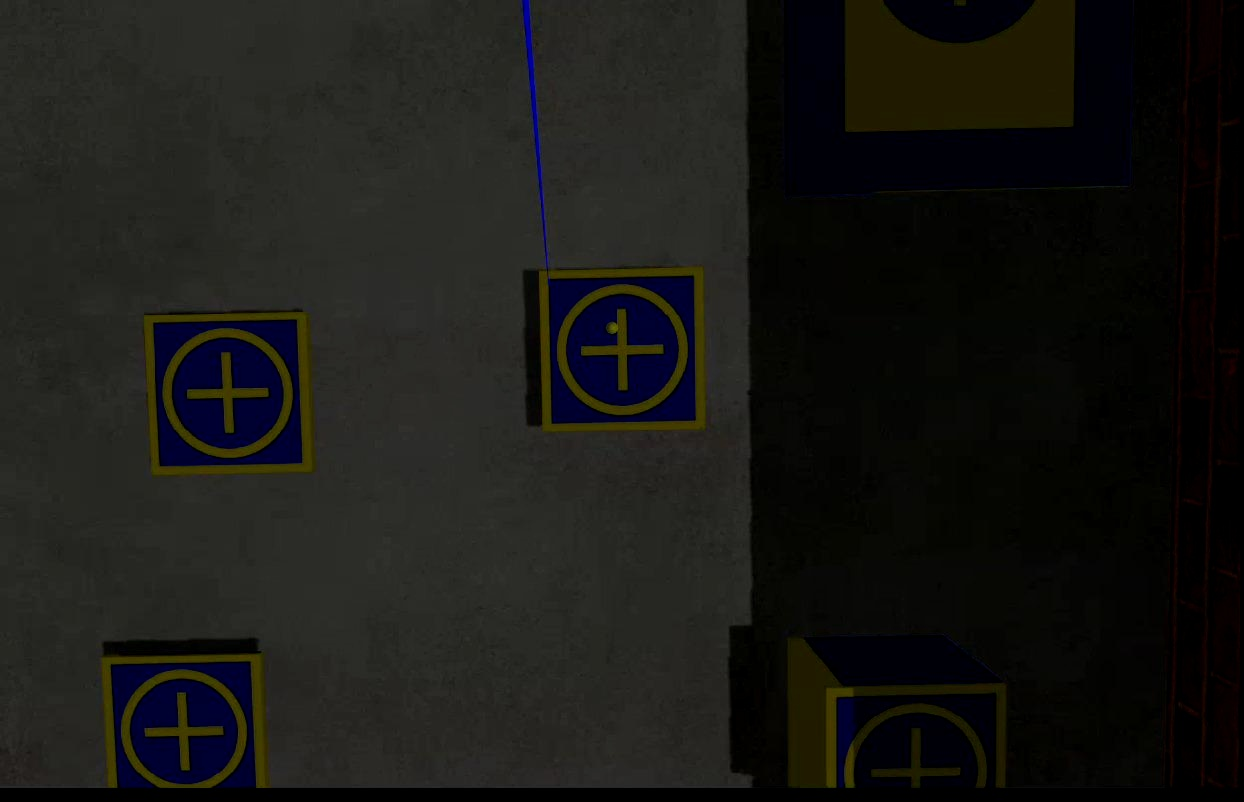large_base: (775, 1, 1131, 199)
small_base: (142, 311, 315, 478), (538, 268, 708, 436), (105, 652, 265, 788), (826, 685, 1005, 789)
